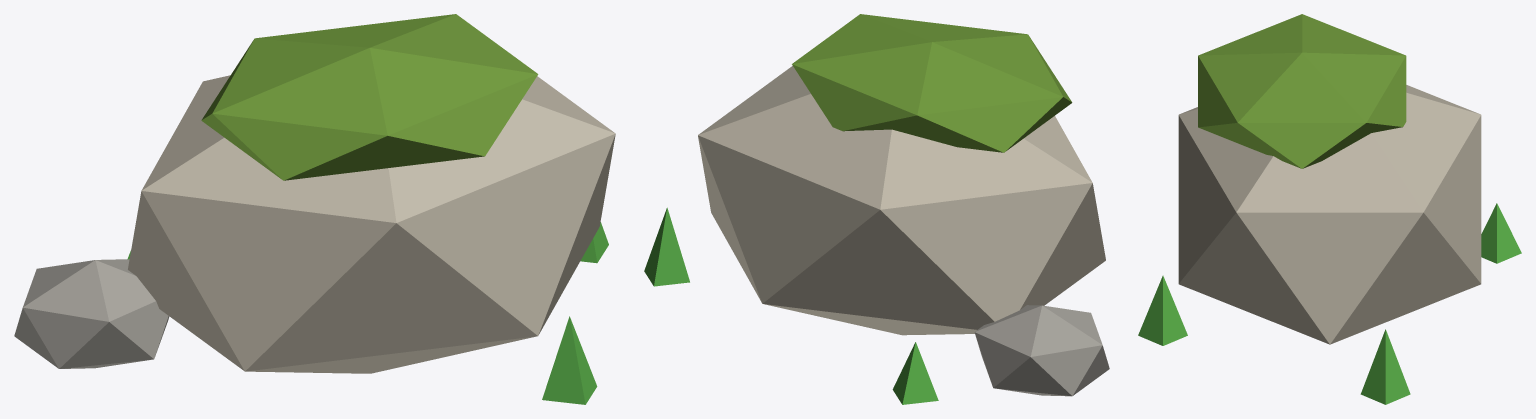
File: matacao.glb
3 renders of one model, left to right at view 1: azimuth 30°, elevation 25°; view 2: azimuth 150°, elevation 25°; view 3: azimuth 270°, elevation 25°, orthographic. The views are drawn at different scales.
Visible parts, largest first — view 1: corpo; view 2: corpo; view 3: corpo.
Boxes of the visible parts, x1,y1,x2,y2 form: corpo: (14,14,615,404); corpo: (644,14,1109,404); corpo: (1138,14,1521,404).
Bounding box in the file's own units: 0.9231 × 0.533 × 0.69.
